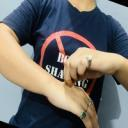hand: (63, 46, 119, 90), (48, 83, 99, 128)
